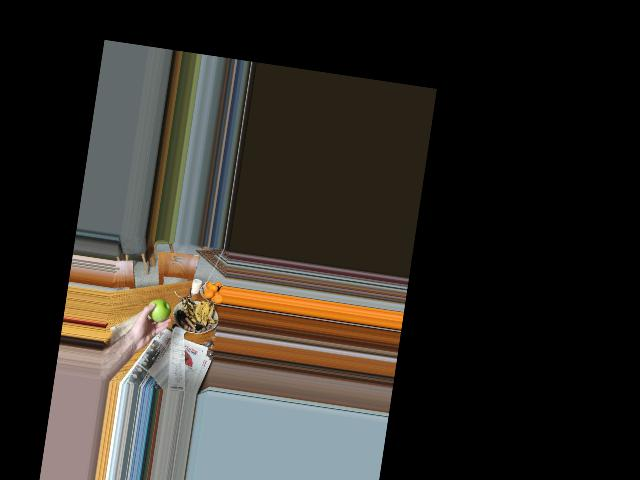apple: (144, 297, 171, 324)
